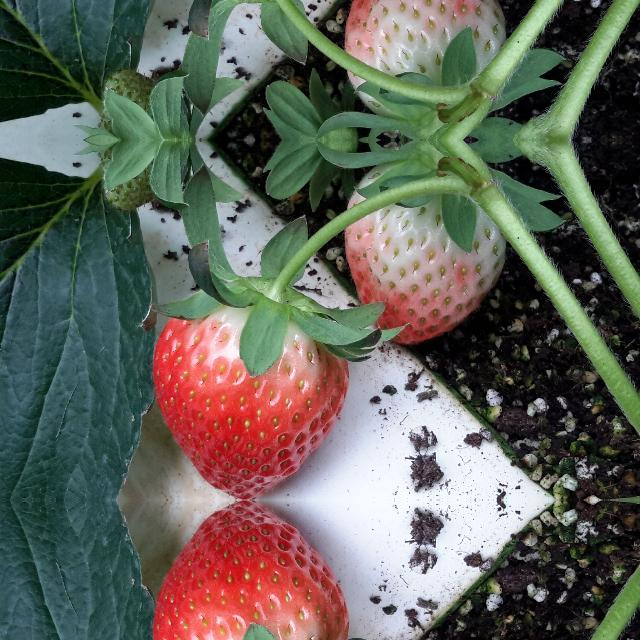Health_100: (152, 307, 350, 499), (152, 501, 350, 640)
Health_75: (342, 160, 510, 346), (342, 0, 509, 120)
